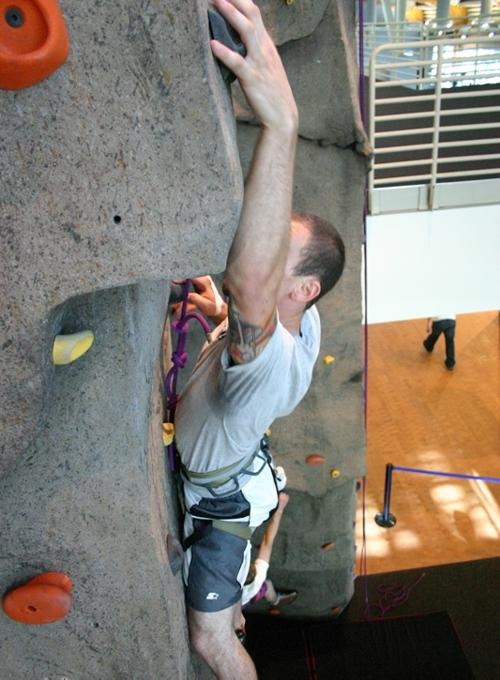person: (172, 4, 344, 680)
